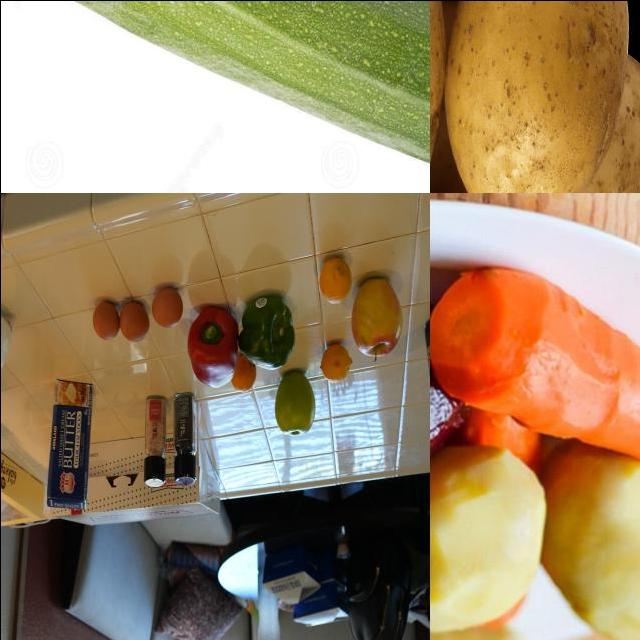bell_pepper: (185, 303, 243, 389), (234, 295, 299, 371), (167, 390, 199, 488)
carrot: (430, 246, 640, 524)
egg: (150, 286, 186, 331), (117, 298, 149, 344), (89, 297, 118, 343)
onion: (1, 302, 16, 381)
potato: (451, 1, 627, 193), (430, 459, 549, 632), (543, 445, 640, 640), (508, 53, 640, 193)
zucchini: (1, 1, 430, 193)
